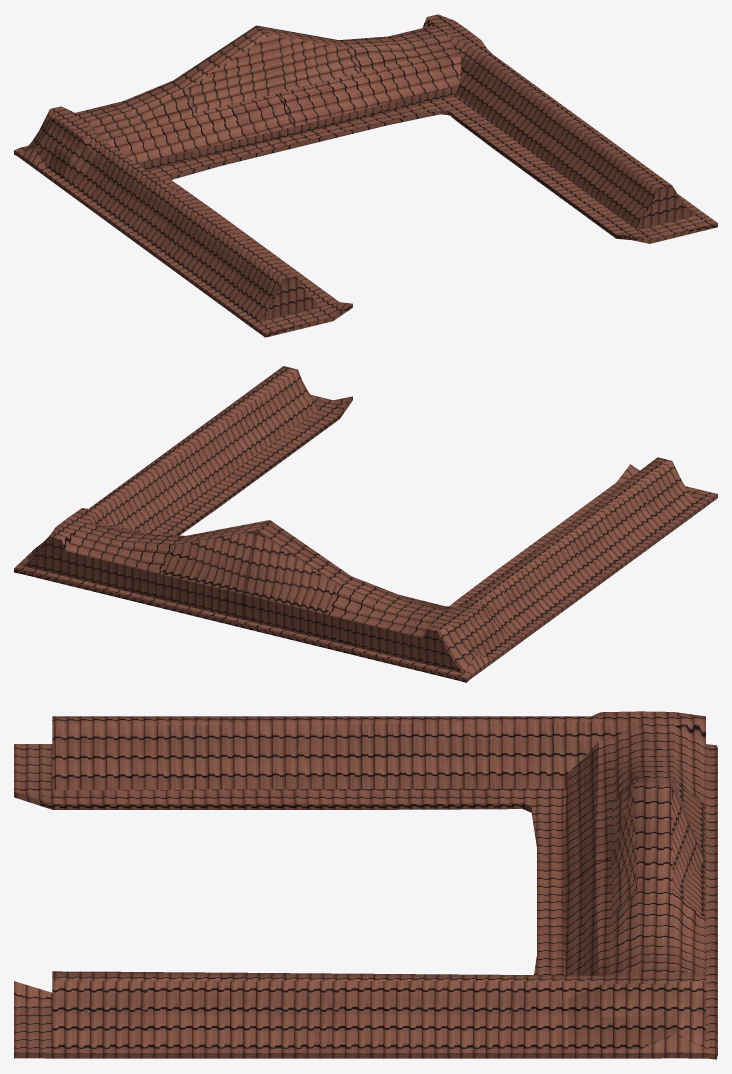
File: TempleRoof.FBX
The picture shows the model from 3 angles, top to bottom: view 1: azimuth 30°, elevation 25°; view 2: azimuth 150°, elevation 25°; view 3: azimuth 270°, elevation 25°; orthographic projection. The views are drawn at different scales.
Visible parts, largest first — view 1: Object001; view 2: Object001; view 3: Object001.
Part boxes in pixels (x1,y1,x2,y2): Object001: [14, 14, 717, 337]; Object001: [14, 366, 717, 682]; Object001: [14, 711, 717, 1059].
Size of the model in its own units: 1210 by 220 by 1166.
Materials: 1 (1 with a texture image).
